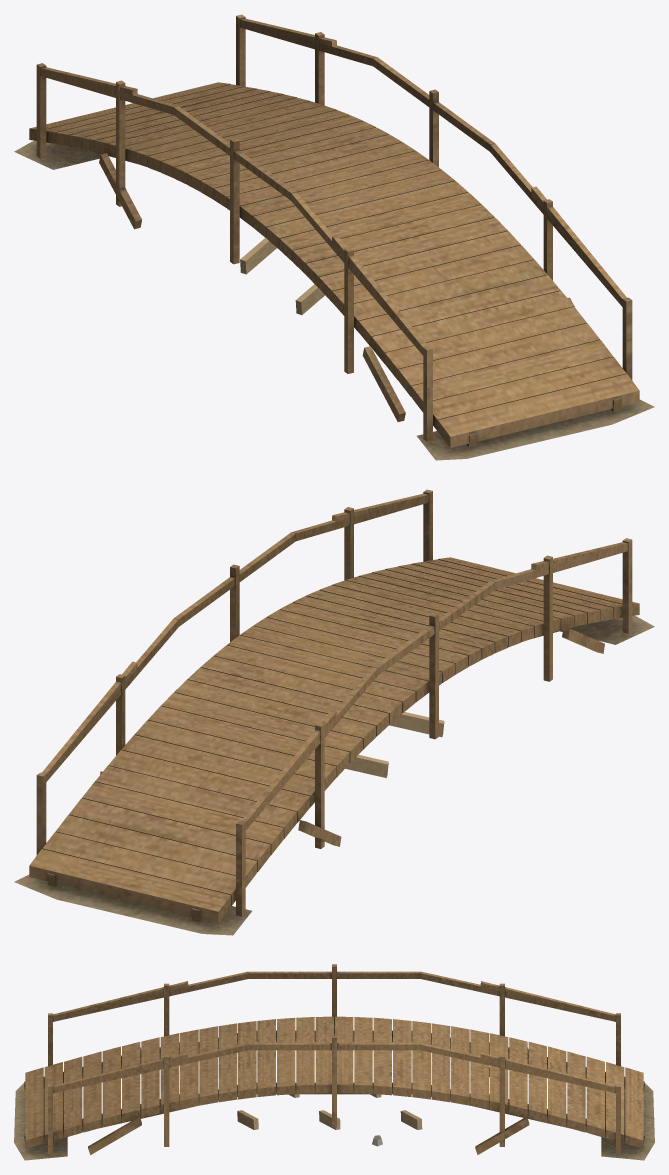
The model's file is bridge-wood.glb.
The picture shows the model from 3 angles, top to bottom: view 1: azimuth 30°, elevation 25°; view 2: azimuth 150°, elevation 25°; view 3: azimuth 270°, elevation 25°; orthographic projection. The views are drawn at different scales.
Parts seen in each view (by area): view 1: LOD0 (×2); view 2: LOD0 (×2); view 3: LOD0 (×2).
Boxes of the visible parts, <box> form: LOD0 (×2): <box>14,14,654,460</box>; LOD0 (×2): <box>14,489,654,935</box>; LOD0 (×2): <box>14,964,654,1160</box>.
Size of what is drawn, in the model's own units: 0.3 by 0.215 by 1.03.
Materials: 2 (2 with a texture image).
